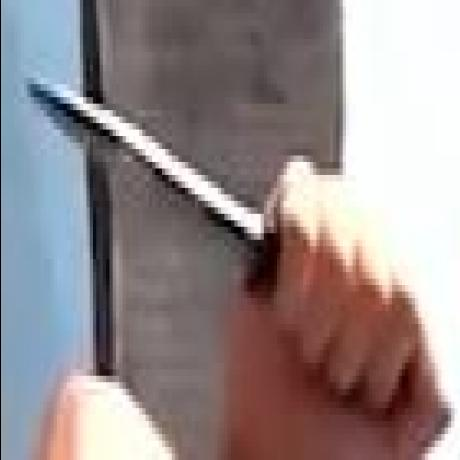weapon: (20, 61, 280, 281)
